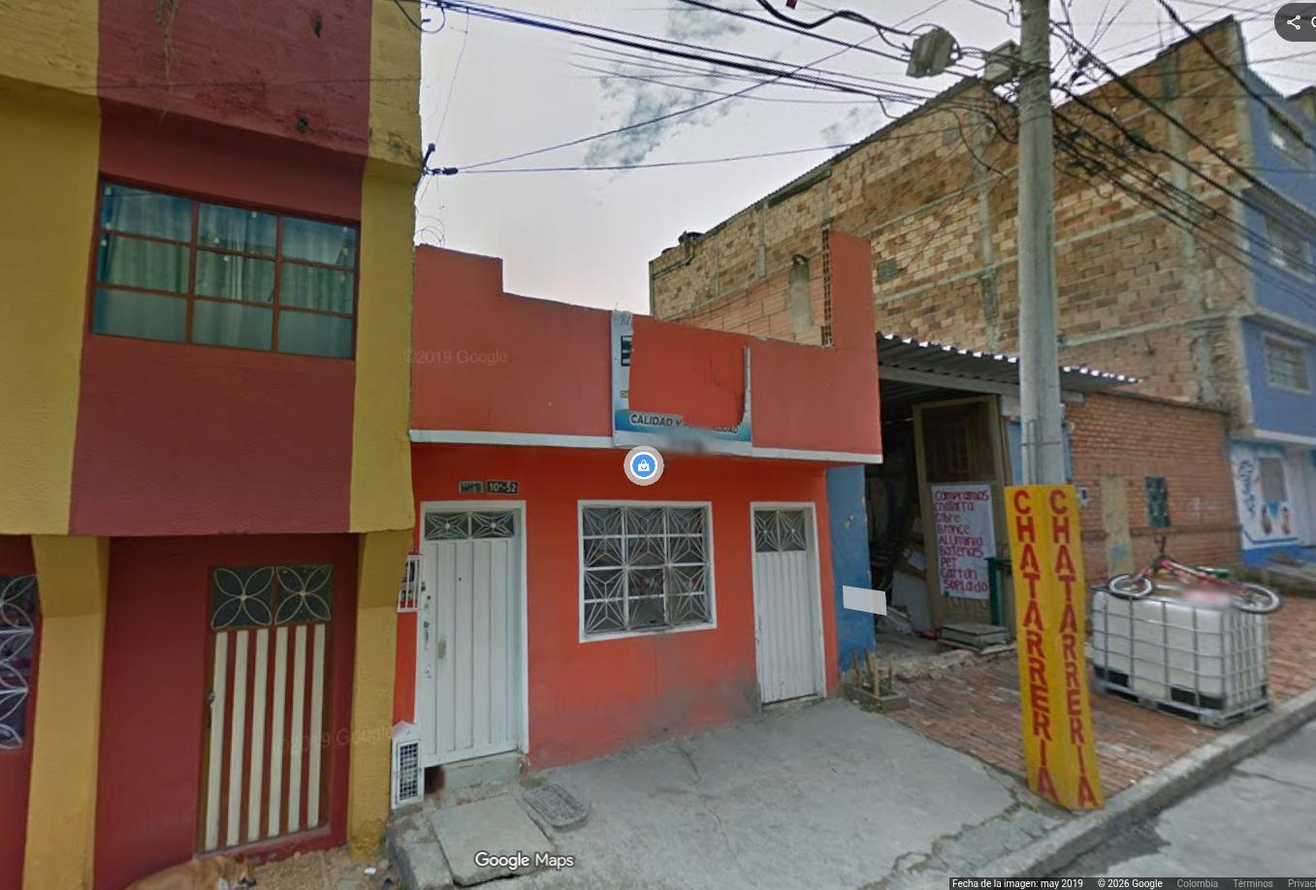casa: (0, 0, 423, 889), (394, 247, 880, 795), (828, 334, 1027, 709), (1062, 367, 1238, 582)
poste: (1007, 0, 1103, 809)
